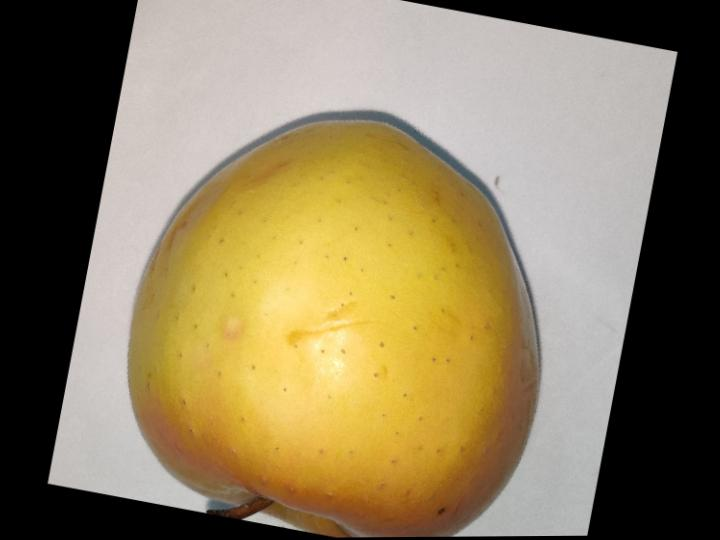apple: (128, 119, 538, 538)
